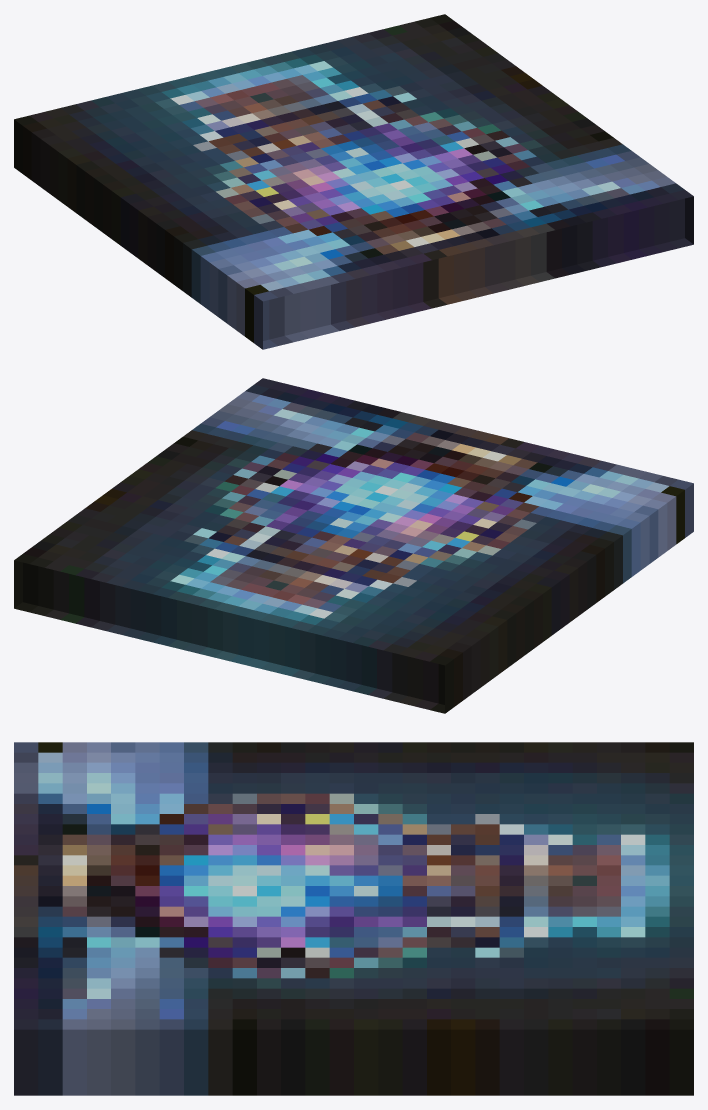
Rendered from potion_voxel.glb.
3 views of the same model, one above another, from view 1: azimuth 30°, elevation 25°; view 2: azimuth 150°, elevation 25°; view 3: azimuth 270°, elevation 25° (orthographic). The views are drawn at different scales.
Visible parts, largest first — view 1: VoxelObject; view 2: VoxelObject; view 3: VoxelObject.
Part boxes in pixels (x1,y1,x2,y2): VoxelObject: [14, 14, 693, 349]; VoxelObject: [14, 378, 693, 713]; VoxelObject: [14, 742, 693, 1095].
Size of the model in its own units: 1.4 by 0.2 by 1.4.
